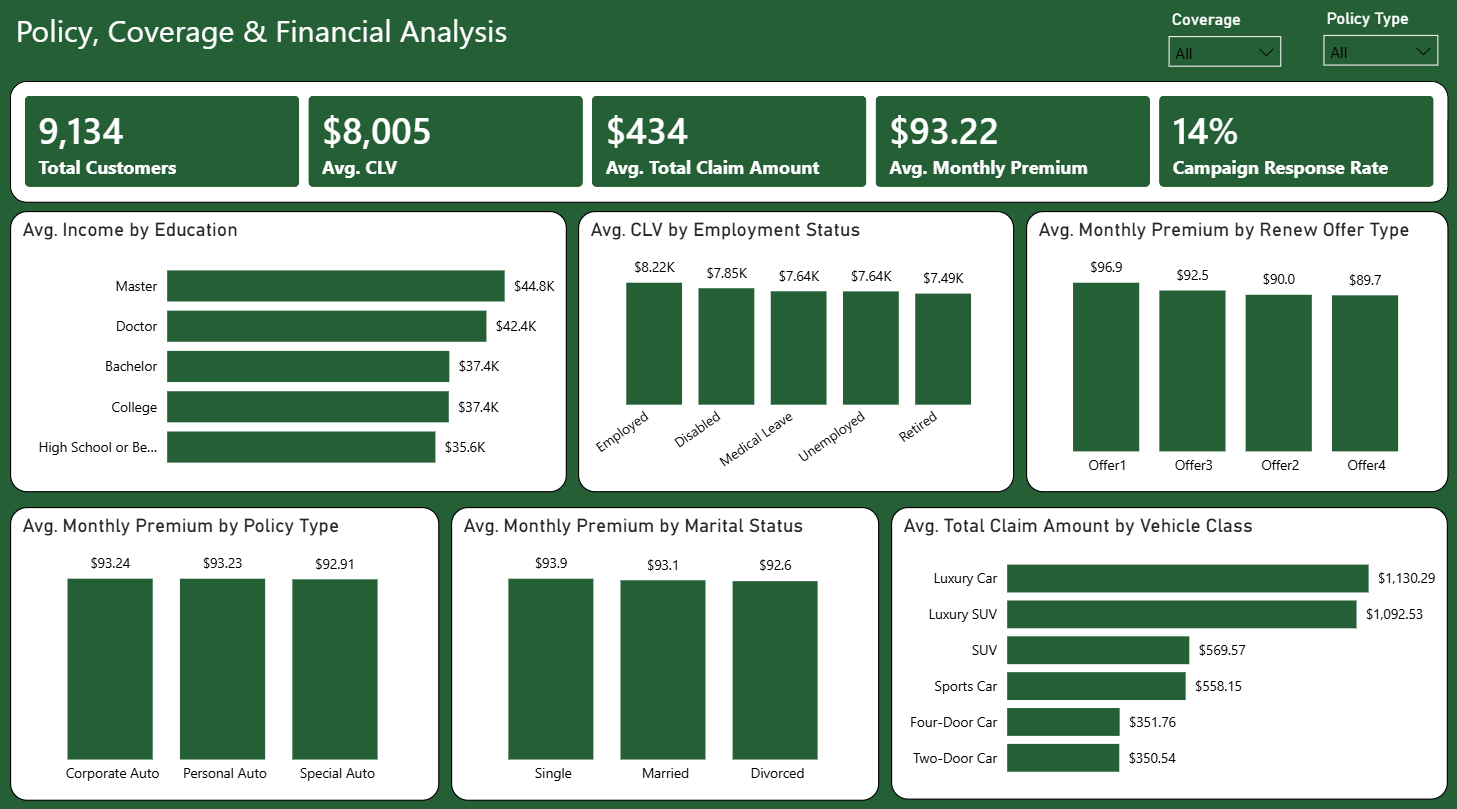

This screenshot's page, from the dashboard's own definition file:
{"tool":"powerbi","page":{"name":"Coverage & Financial Analysis","canvas":[1280,720],"ordinal":1},"visuals":[{"type":"clusteredColumnChart","fields":{"Category":["Policy_Data.Policy Type"],"Y":["KPI.Avg. Monthly Premium"]},"box":[8.8,451.3,377.4,257.8],"z":4000},{"type":"clusteredBarChart","fields":{"Category":["Policy_Data.Vehicle Class"],"Y":["KPI.Avg. Total Claim Amount"]},"box":[782,451.3,489.2,256.8],"z":5000},{"type":"clusteredBarChart","fields":{"Category":["Policy_Data.Education"],"Y":["KPI.Avg. Income"]},"box":[8.8,191.6,489.2,247.1],"z":5001},{"type":"clusteredColumnChart","fields":{"Category":["Policy_Data.Employment Status"],"Y":["KPI.Average. CLV"]},"box":[507.7,191.6,383.2,247.1],"z":5002},{"type":"clusteredColumnChart","fields":{"Category":["Policy_Data.Marital Status"],"Y":["KPI.Avg. Monthly Premium"]},"box":[395.9,451.3,376.4,257.8],"z":5003},{"type":"clusteredColumnChart","fields":{"Category":["Policy_Data.Renew Offer Type"],"Y":["KPI.Avg. Monthly Premium"]},"box":[900.7,191.6,370.6,247.1],"z":5004},{"type":"cardVisual","fields":{"Data":["KPI.Total Customers","KPI.Average. CLV","KPI.Avg. Total Claim Amount","KPI.Avg. Monthly Premium","KPI.Response Rate"]},"box":[8.8,76.8,1263.5,107],"z":5005},{"type":"textbox","box":[8.8,8.8,521.3,49.6],"z":5006},{"type":"slicer","fields":{"Values":["Policy_Data.Coverage"]},"box":[1015.4,8.8,120.6,68.1],"z":5007},{"type":"slicer","fields":{"Values":["Policy_Data.Policy Type"]},"box":[1151.6,8.8,120.6,68.1],"z":5008}]}

Visuals, with their boxes in screenshot pixels (x1, y1, x2, y2), scaled from the page's 1280x720 canvas onto the 1457x809 screenshot:
clusteredColumnChart - Policy_Data.Policy Type x KPI.Avg. Monthly Premium: <region>10, 507, 440, 797</region>
clusteredBarChart - Policy_Data.Vehicle Class x KPI.Avg. Total Claim Amount: <region>890, 507, 1447, 796</region>
clusteredBarChart - Policy_Data.Education x KPI.Avg. Income: <region>10, 215, 567, 493</region>
clusteredColumnChart - Policy_Data.Employment Status x KPI.Average. CLV: <region>578, 215, 1014, 493</region>
clusteredColumnChart - Policy_Data.Marital Status x KPI.Avg. Monthly Premium: <region>451, 507, 879, 797</region>
clusteredColumnChart - Policy_Data.Renew Offer Type x KPI.Avg. Monthly Premium: <region>1025, 215, 1447, 493</region>
cardVisual - KPI.Total Customers x KPI.Average. CLV: <region>10, 86, 1448, 207</region>
textbox: <region>10, 10, 603, 66</region>
slicer - Policy_Data.Coverage: <region>1156, 10, 1293, 86</region>
slicer - Policy_Data.Policy Type: <region>1311, 10, 1448, 86</region>
